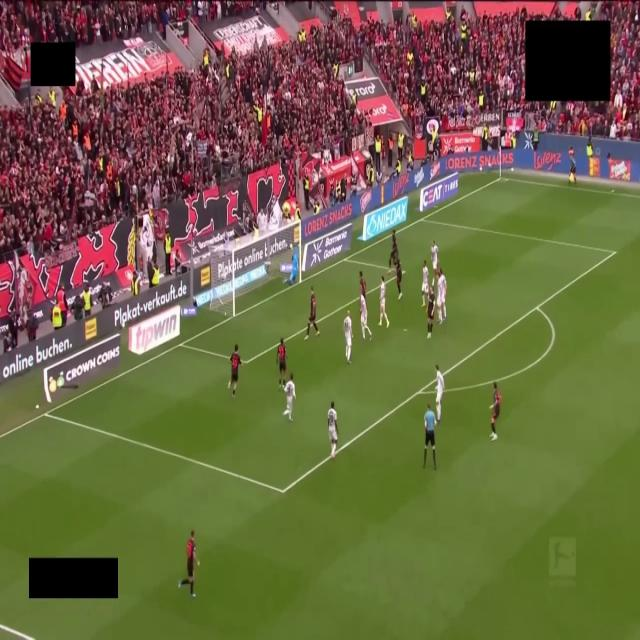ball: (290, 244, 292, 249)
player: (178, 530, 199, 597), (305, 287, 319, 339), (228, 344, 241, 398), (490, 383, 501, 440), (283, 374, 295, 421), (437, 268, 447, 324), (284, 246, 298, 285), (360, 295, 372, 340), (435, 365, 444, 423), (328, 401, 337, 458), (379, 276, 389, 327), (277, 338, 286, 388), (427, 286, 435, 338), (344, 311, 352, 363), (389, 230, 398, 272), (431, 240, 438, 285), (422, 261, 428, 307), (396, 257, 402, 299), (359, 271, 366, 298)
referee: (423, 404, 436, 469)
